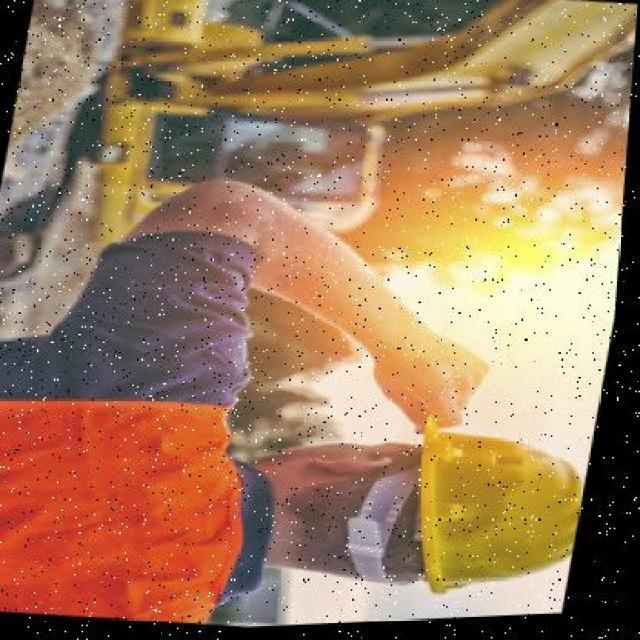helmet: (380, 406, 602, 624)
vest: (0, 338, 307, 639)
